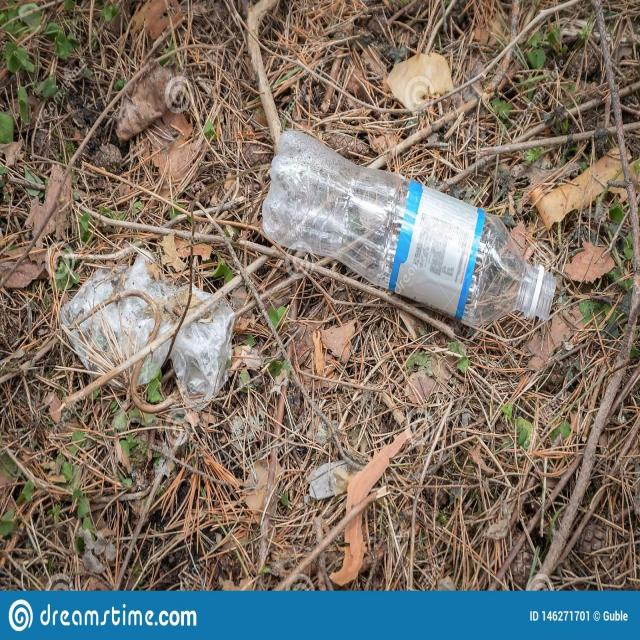bottle: (255, 117, 582, 361)
